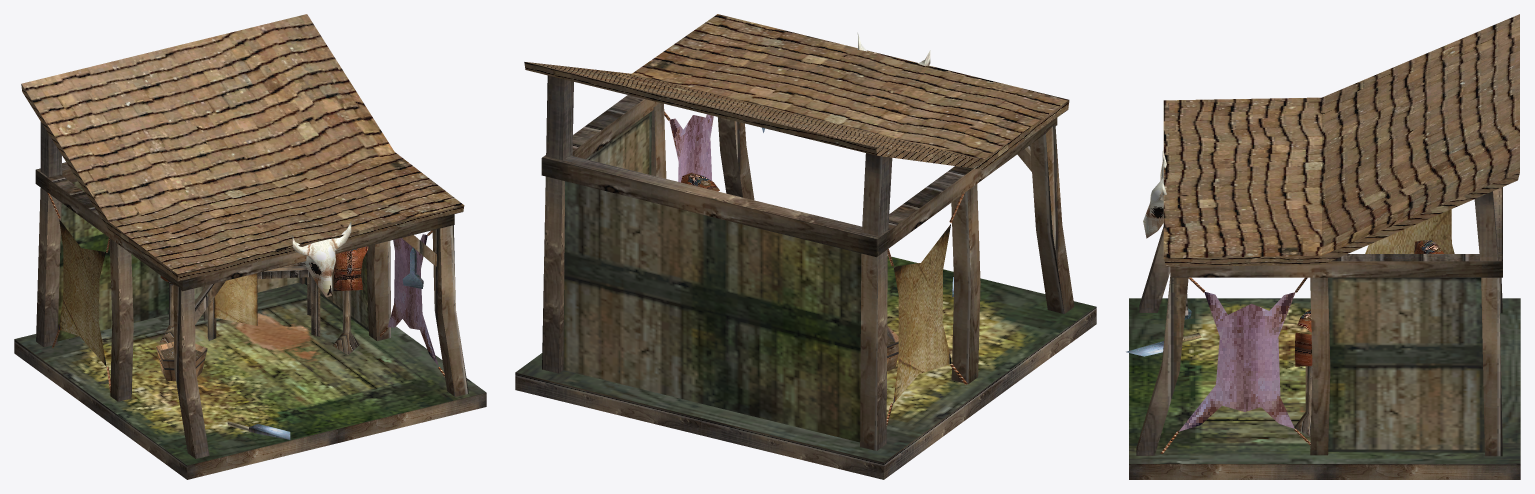
The model's file is building_tanner_workshop.glb.
3 views of the same model, side by side, from view 1: azimuth 30°, elevation 25°; view 2: azimuth 150°, elevation 25°; view 3: azimuth 270°, elevation 25° (orthographic). The views are drawn at different scales.
Parts seen in each view (by area): view 1: building_tanner_workshop; view 2: building_tanner_workshop; view 3: building_tanner_workshop.
Part boxes in pixels (bbox=[...]): building_tanner_workshop: bbox=[14, 14, 486, 479]; building_tanner_workshop: bbox=[515, 14, 1096, 479]; building_tanner_workshop: bbox=[1126, 14, 1520, 479].
Bounding box in the file's own units: 4.4 × 3.77 × 4.44.
Materials: 13 (13 with a texture image).
